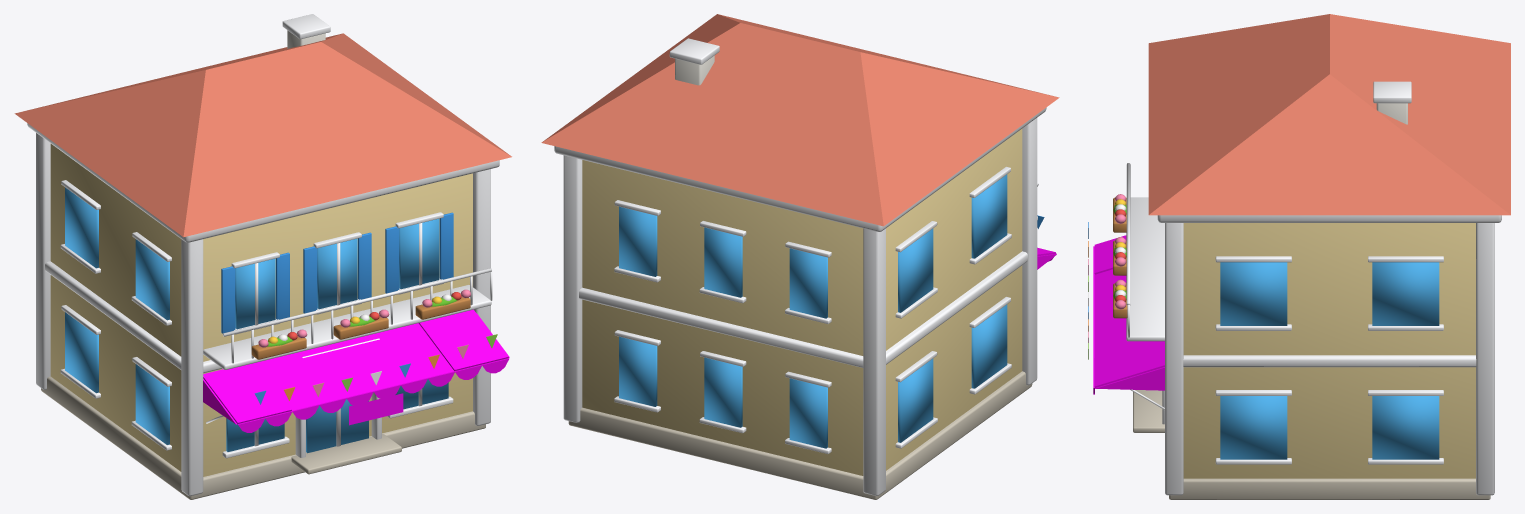
Rendered from shop_yellow.glb.
3 views of the same model, side by side, from view 1: azimuth 30°, elevation 25°; view 2: azimuth 150°, elevation 25°; view 3: azimuth 270°, elevation 25° (orthographic). The views are drawn at different scales.
Visible parts, largest first — view 1: shop_yellow; view 2: shop_yellow; view 3: shop_yellow.
Part boxes in pixels (<box>): shop_yellow: <box>14,14,511,499</box>; shop_yellow: <box>541,14,1059,499</box>; shop_yellow: <box>1088,14,1510,499</box>.
Bounding box in the file's own units: 9.1 × 9.36 × 9.46.
